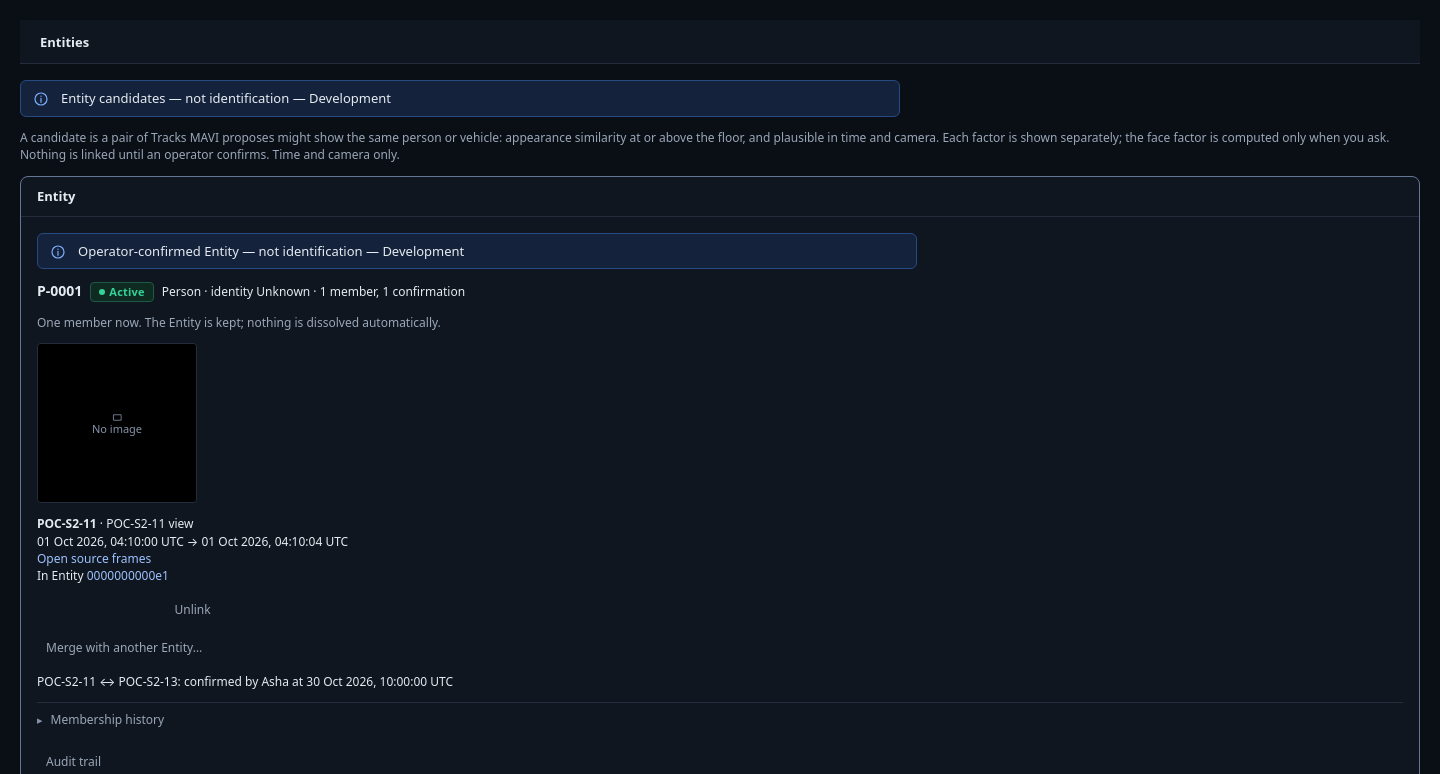
Test: PoC S11-full Entity corrections › renders the membership history with the unattributed label, and links the audit trail of the Entity and its confirmations
Expected: the text "P-0001" is shown, [37, 282, 82, 302]
Expected: the text "Operator-confirmed Entity — not identification — Development" is shown, [78, 242, 464, 260]
Click the heading "Membership history".
click(107, 720)  # box [50, 711, 164, 728]
(page scrolled)
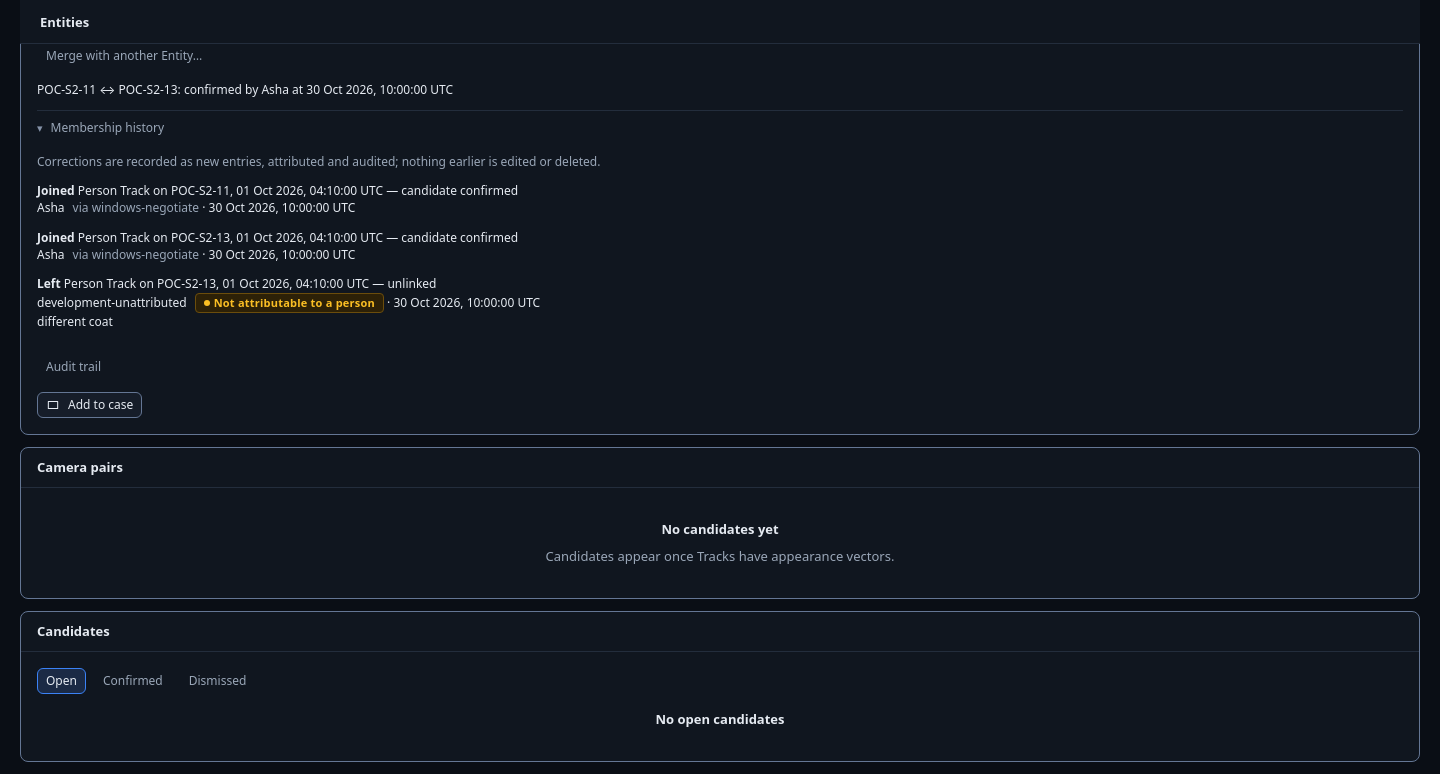
Expected: the button "Add to case" is shown, [37, 392, 142, 418]
Expected: the list item that starts with "Left" shows "different coat", [37, 313, 113, 330]
Expected: the text "Not attributable to a person" is shown, [195, 293, 384, 313]
